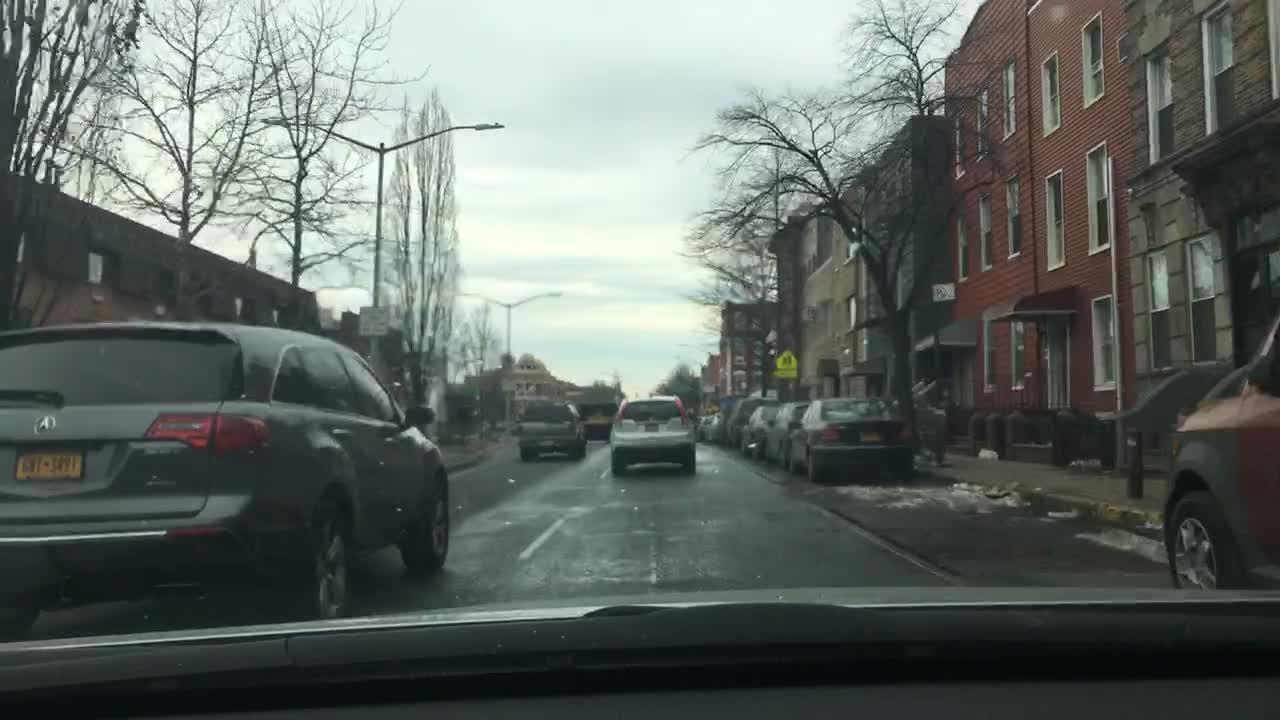acura: (23, 411, 62, 441)
